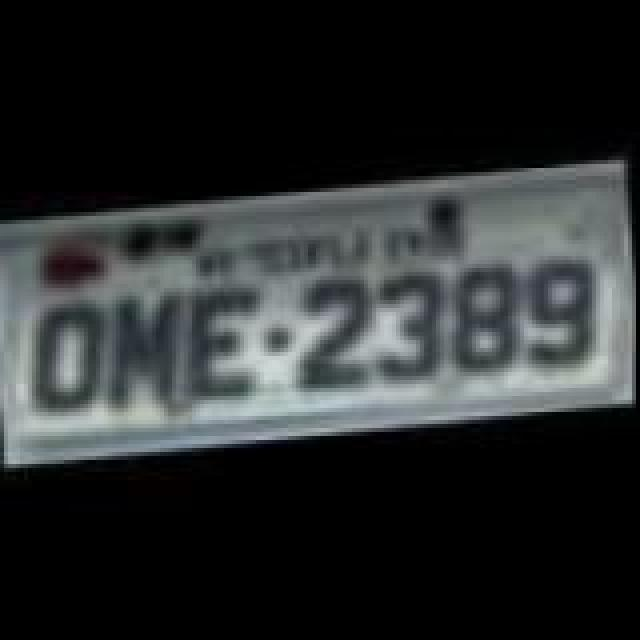2: (294, 282, 386, 398)
3: (370, 272, 454, 388)
8: (442, 262, 534, 374)
9: (518, 252, 602, 368)
E: (178, 290, 278, 414)
N: (100, 288, 188, 416)
O: (26, 304, 110, 416)
